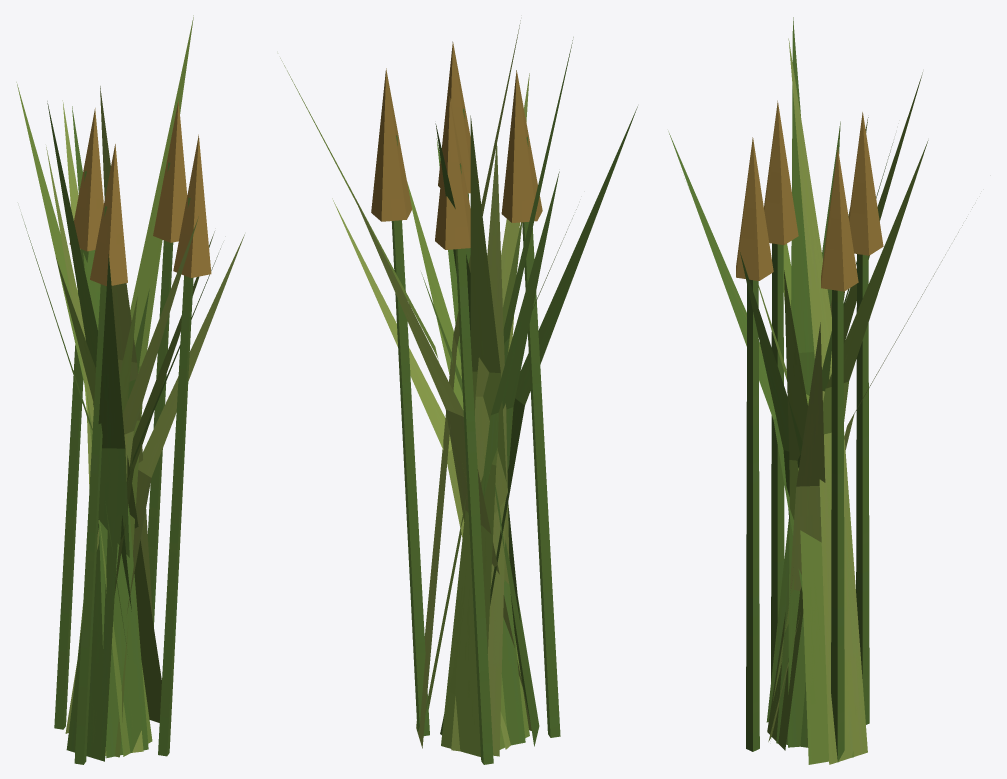
Rendered from grass_tuft_02.glb.
3 renders of one model, left to right at view 1: azimuth 30°, elevation 25°; view 2: azimuth 150°, elevation 25°; view 3: azimuth 270°, elevation 25°, orthographic. The views are drawn at different scales.
Parts seen in each view (by area): view 1: grass_tuft_02; view 2: grass_tuft_02; view 3: grass_tuft_02.
Part boxes in pixels (x1,y1,x2,y2): grass_tuft_02: (16,15,244,764); grass_tuft_02: (280,20,637,764); grass_tuft_02: (668,17,972,764).
Size of the model in its own units: 0.3818 by 1.09 by 0.4678.
Materials: 4 (4 with a texture image).
